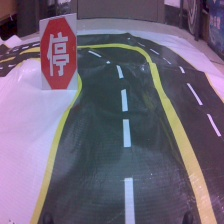stop: (38, 12, 80, 94)
